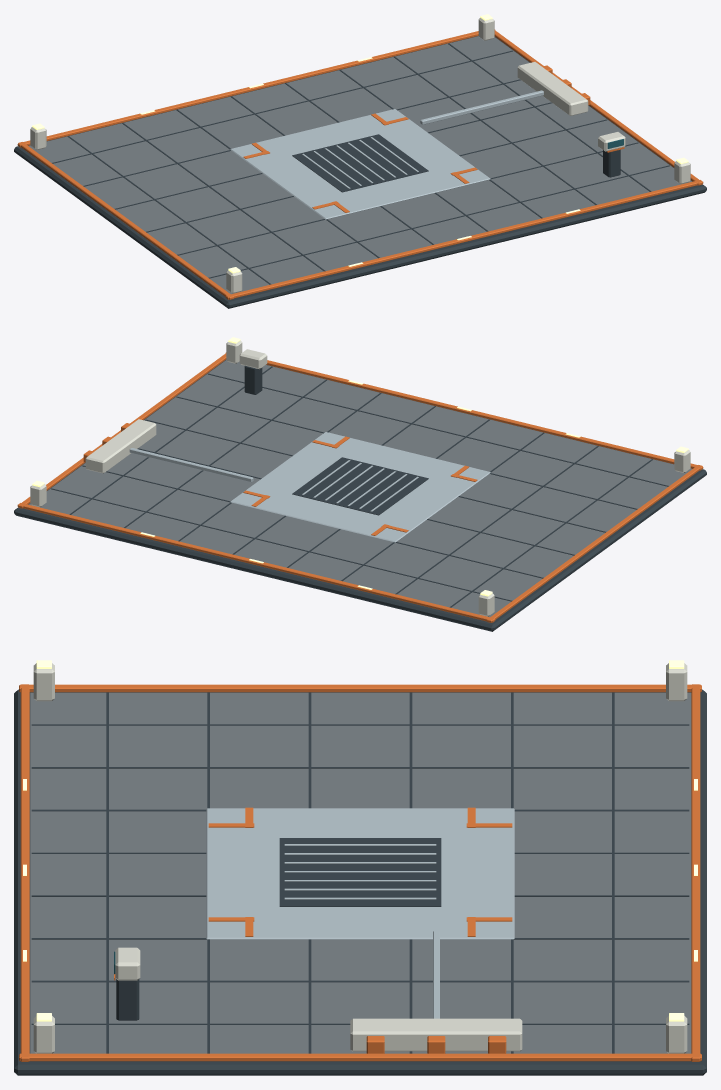
File: launchpad.glb
The picture shows the model from 3 angles, top to bottom: view 1: azimuth 30°, elevation 25°; view 2: azimuth 150°, elevation 25°; view 3: azimuth 270°, elevation 25°; orthographic projection. The views are drawn at different scales.
Parts seen in each view (by area): view 1: launchpad_floor.002, launchpad_dark.003, launchpad_metal.002, launchpad_orange.002, launchpad_ivory.003, launchpad_light.002; view 2: launchpad_floor.002, launchpad_dark.003, launchpad_metal.002, launchpad_orange.002, launchpad_ivory.003, launchpad_light.002; view 3: launchpad_floor.002, launchpad_dark.003, launchpad_metal.002, launchpad_orange.002, launchpad_ivory.003, launchpad_light.002.
Boxes of the visible parts, x1,y1,x2,y2 form: launchpad_floor.002: (28,36,691,294); launchpad_dark.003: (14,36,706,308); launchpad_metal.002: (230,90,543,219); launchpad_orange.002: (17,29,703,299); launchpad_ivory.003: (30,17,690,293); launchpad_light.002: (32,14,688,273); launchpad_floor.002: (29,360,692,617); launchpad_dark.003: (14,360,706,631); launchpad_metal.002: (129,432,490,542); launchpad_orange.002: (17,352,703,622); launchpad_ivory.003: (30,340,690,616); launchpad_light.002: (32,337,688,596); launchpad_floor.002: (29,692,691,1053); launchpad_dark.003: (14,689,706,1075); launchpad_metal.002: (206,808,514,1018); launchpad_orange.002: (19,684,701,1061); launchpad_ivory.003: (33,663,687,1053); launchpad_light.002: (23,660,697,1021).
Size of the model in its own units: 17.7 by 1.62 by 13.7.
